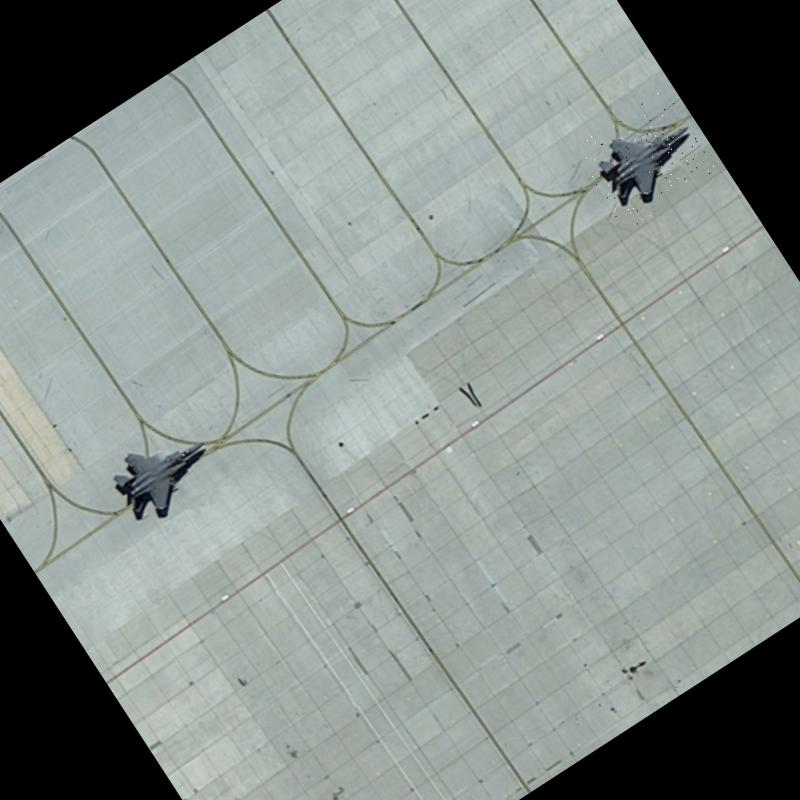A13: (572, 89, 719, 232), (91, 404, 236, 545)
